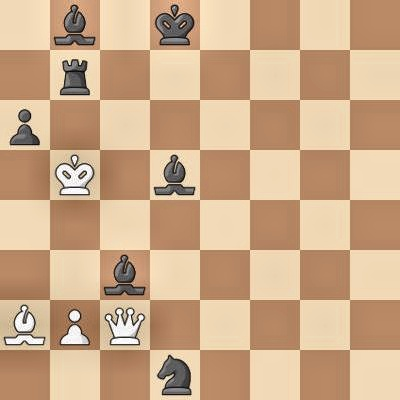black-bishop: (50, 0, 100, 50), (150, 150, 200, 200), (100, 250, 150, 300)
black-king: (150, 0, 200, 50)
black-knight: (150, 350, 200, 400)
black-pawn: (0, 100, 50, 150)
black-rook: (50, 50, 100, 100)
white-bishop: (0, 300, 50, 350)
white-king: (50, 150, 100, 200)
white-pawn: (50, 300, 100, 350)
white-queen: (100, 300, 150, 350)
